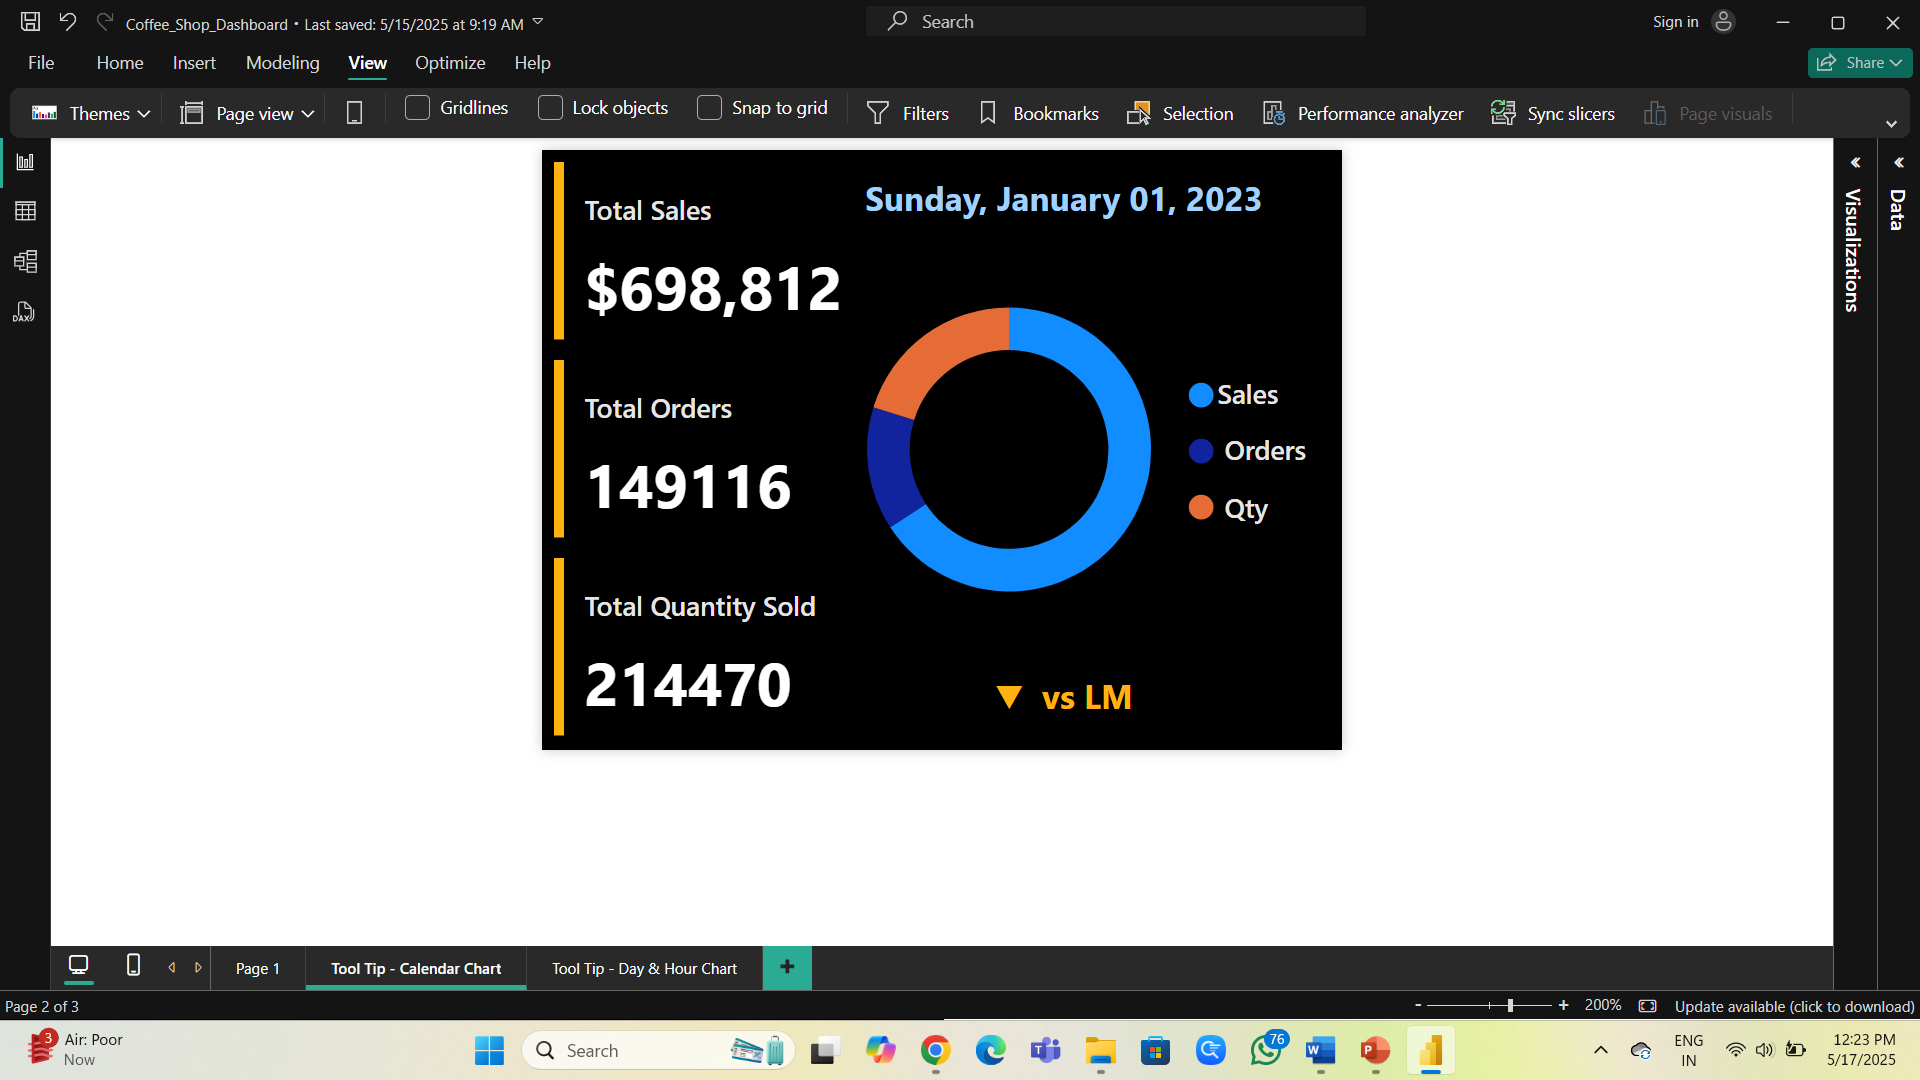

The page's visual inventory and layout, read from the dashboard file:
{"tool":"powerbi","page":{"name":"Tool Tip - Calendar Chart","canvas":[320,240],"ordinal":1},"visuals":[{"type":"cardVisual","fields":{"Data":["Transactions.Total Sales","Transactions.Total Orders","Transactions.Total Quantity Sold"]},"box":[0,0,177,240],"z":0},{"type":"donutChart","fields":{"Y":["Transactions.Total Sales","Transactions.Total Orders","Transactions.Total Quantity Sold"]},"box":[111,44,209,152],"z":1000},{"type":"card","fields":{"Values":["Min(Date Table.Date)"]},"box":[111,3,196,38],"z":2000},{"type":"card","fields":{"Values":["Transactions.MoM Growth & Diff Sales"]},"box":[111,202,196,38],"z":3000}]}

Visuals, with their boxes on the page's 320x240 design canvas (x1, y1, x2, y2). These are canvas units, not pixel positions in the 1920x1080 screenshot, which may show the page scaled, cropped or inside an application window:
cardVisual - Transactions.Total Sales x Transactions.Total Orders: bbox(0, 0, 177, 240)
donutChart - Transactions.Total Sales x Transactions.Total Orders: bbox(111, 44, 320, 196)
card - Min(Date Table.Date): bbox(111, 3, 307, 41)
card - Transactions.MoM Growth & Diff Sales: bbox(111, 202, 307, 240)
